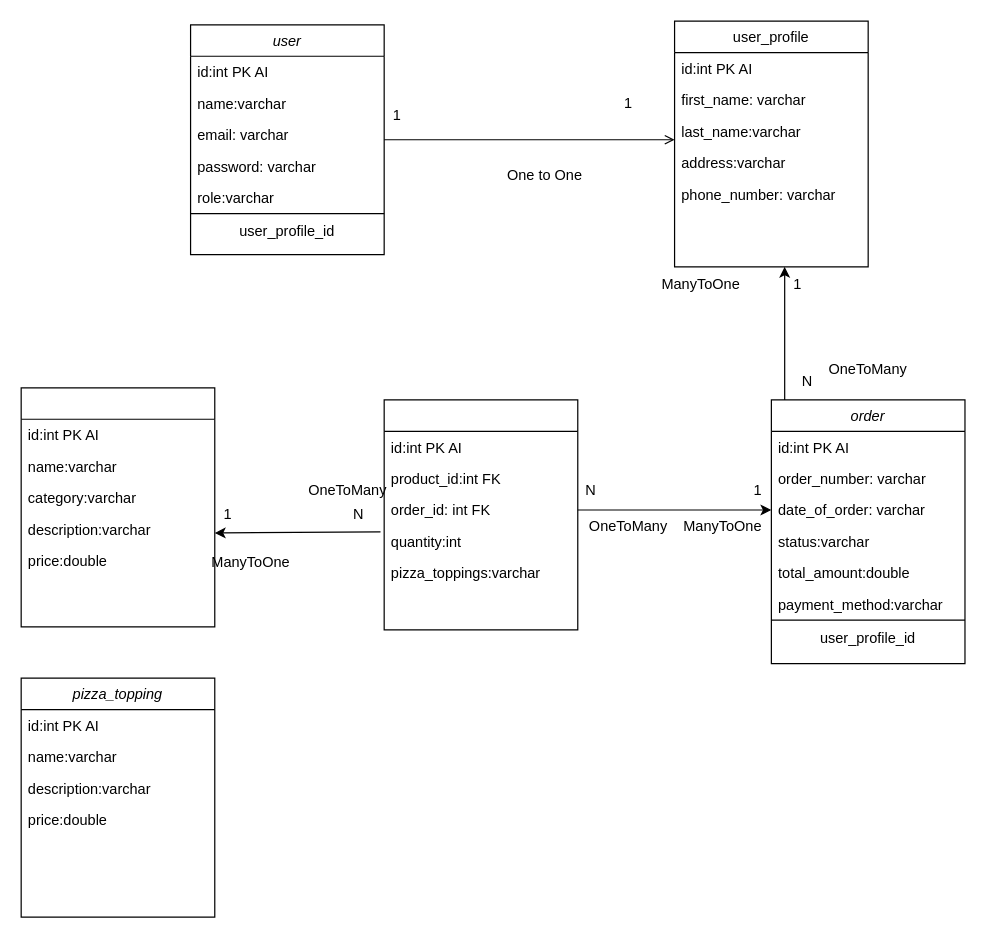
This 987x939 diagram has some shape labels left out. Here are the shapes that lost their labels. From the top down, the box of each, then its label:
(20, 387, 215, 627): product
(383, 399, 578, 630): product_order
